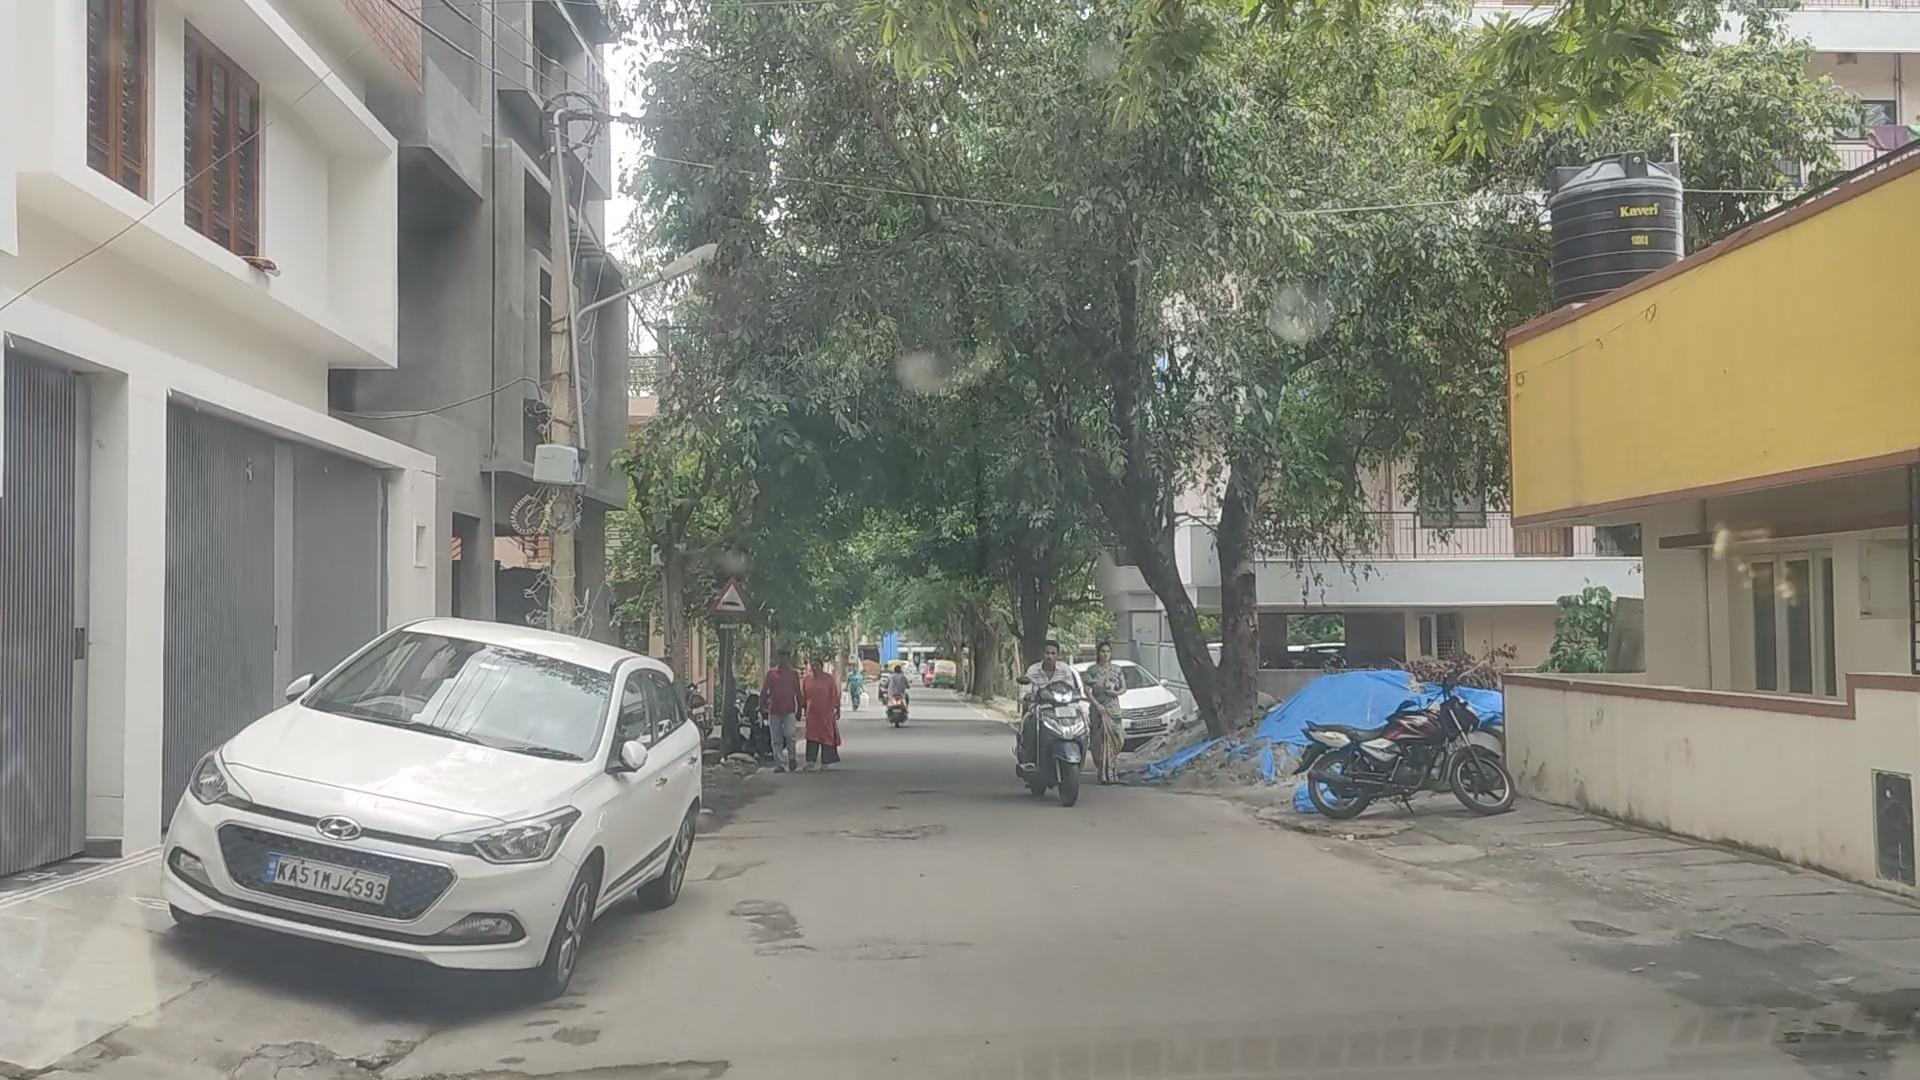LMV: (185, 604, 702, 1005)
RoadDamages: (721, 878, 884, 976), (829, 807, 956, 858)
